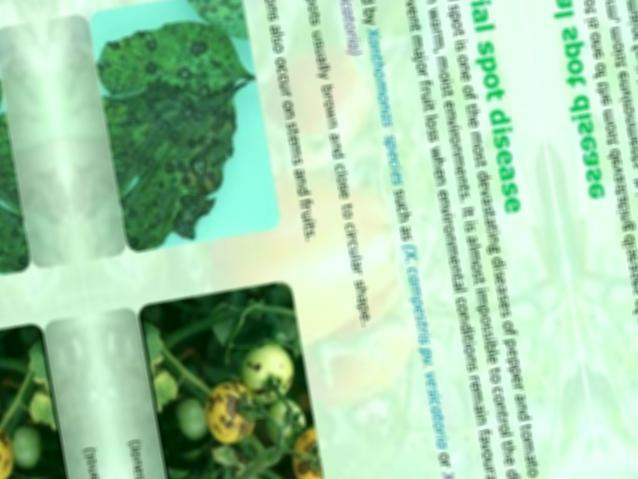Tomato leaf bacterial spot: (92, 11, 274, 253)
